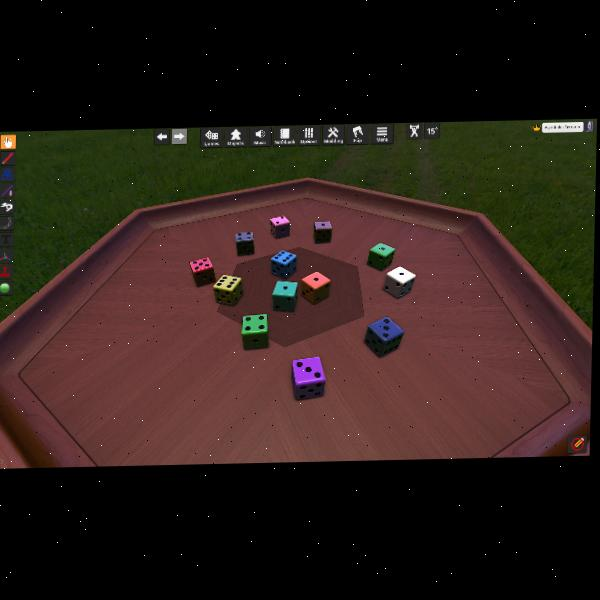d6: (364, 316, 403, 357), (290, 356, 324, 400), (383, 265, 414, 299), (241, 314, 270, 350), (301, 271, 330, 305), (213, 273, 242, 306), (367, 242, 395, 271), (272, 280, 298, 311), (189, 258, 215, 287), (270, 249, 296, 278), (235, 230, 256, 255), (270, 215, 290, 238), (313, 220, 332, 243)
